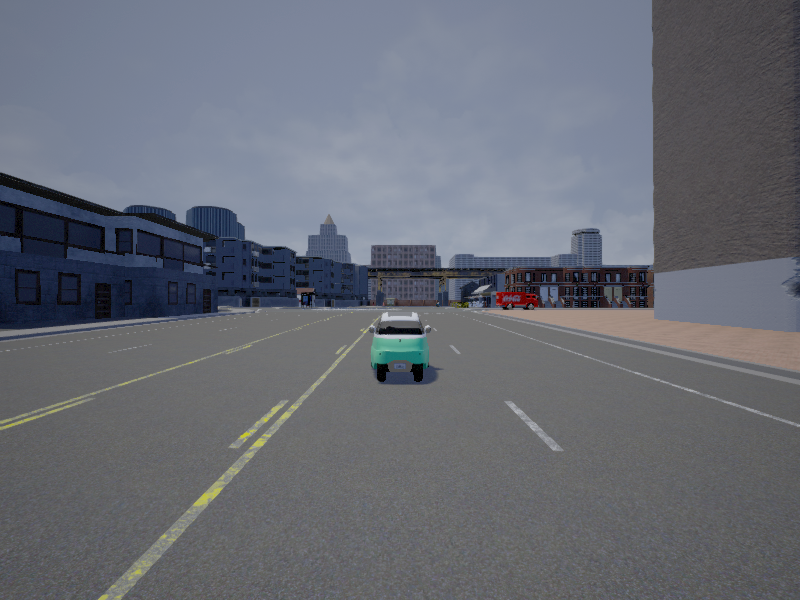Benign: (369, 311, 431, 382), (495, 292, 541, 313)
